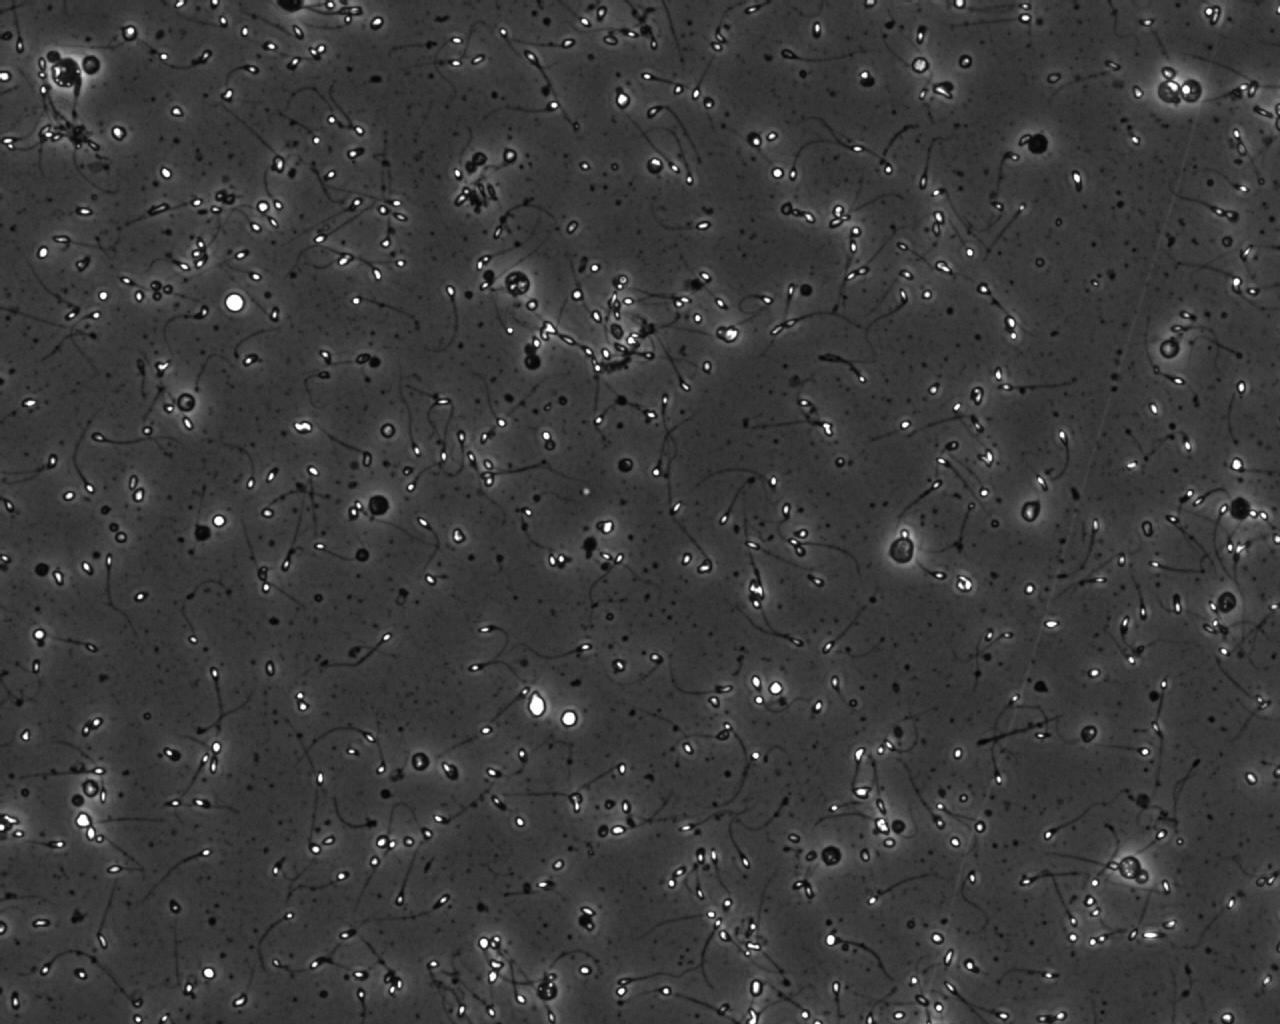cell: (46, 52, 85, 94), (885, 533, 918, 567), (503, 267, 534, 299), (1115, 852, 1145, 883), (523, 688, 551, 722), (1154, 75, 1184, 106), (1176, 76, 1206, 106), (363, 491, 393, 520), (817, 841, 846, 870), (1023, 130, 1053, 158), (1226, 493, 1254, 523), (220, 288, 250, 317), (1016, 498, 1045, 527), (1213, 587, 1241, 616), (1155, 335, 1183, 363), (406, 748, 434, 776), (78, 51, 104, 78), (556, 705, 582, 732), (907, 52, 933, 77), (520, 349, 546, 374), (173, 389, 199, 415), (78, 775, 103, 801), (70, 808, 95, 833), (764, 676, 788, 700)
